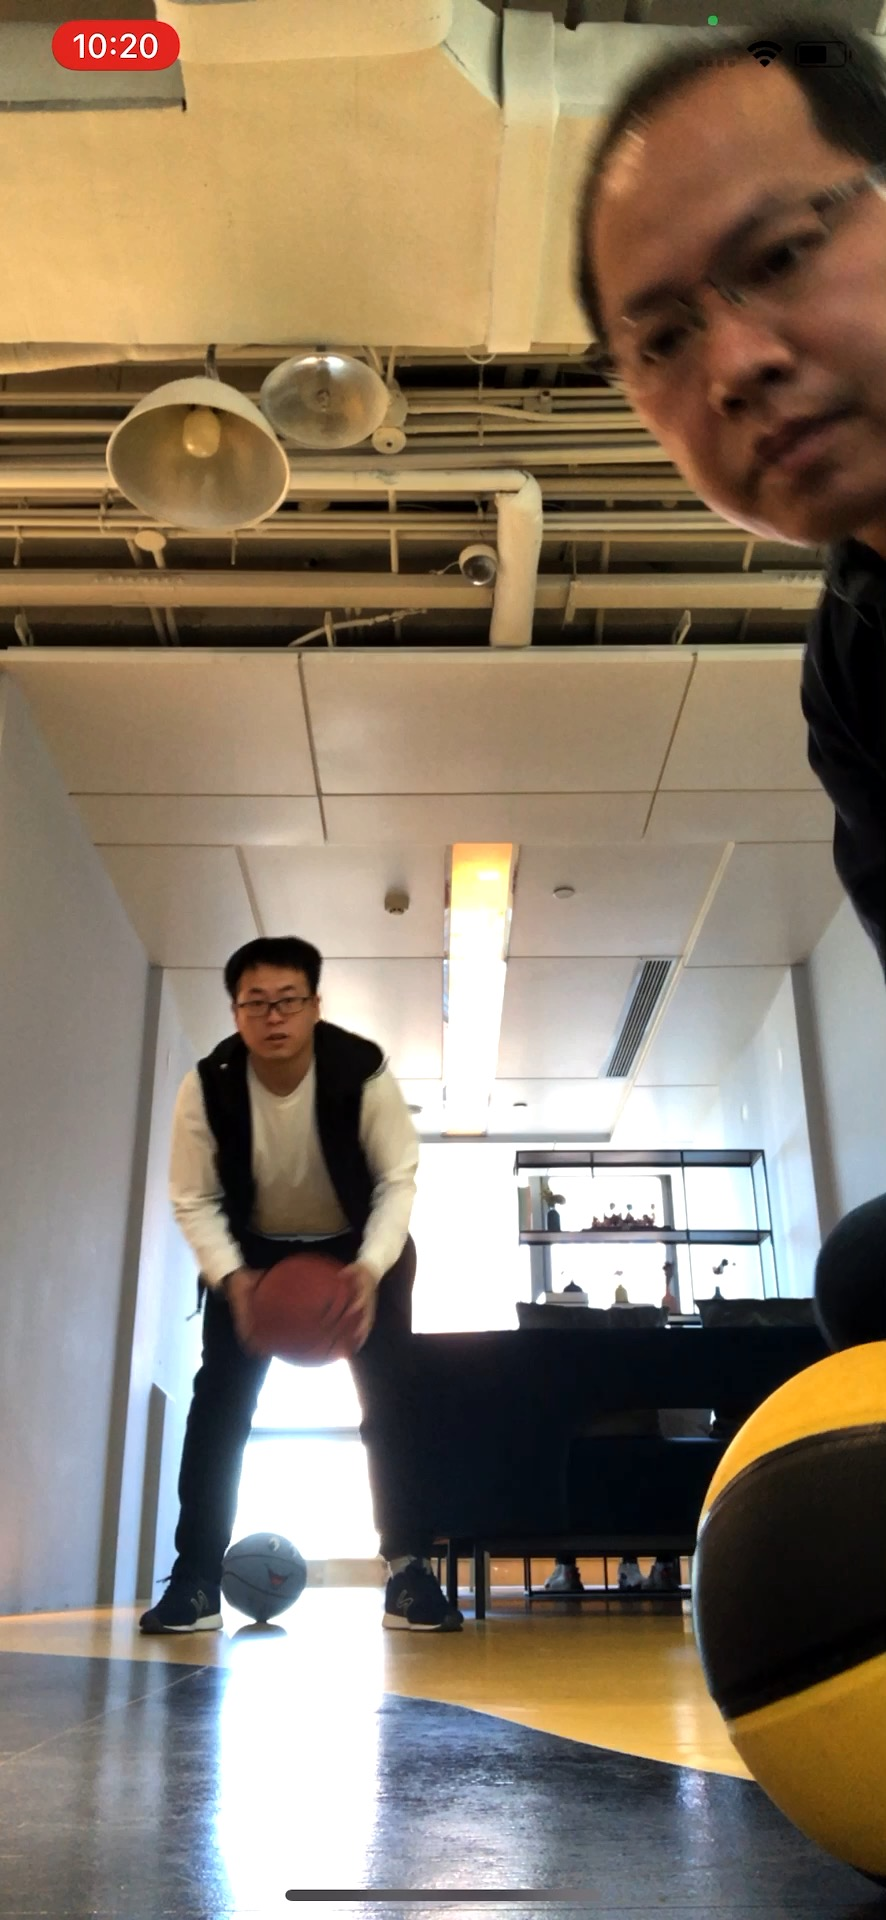ball: (702, 1343, 886, 1884), (248, 1255, 363, 1368), (217, 1531, 308, 1622)
